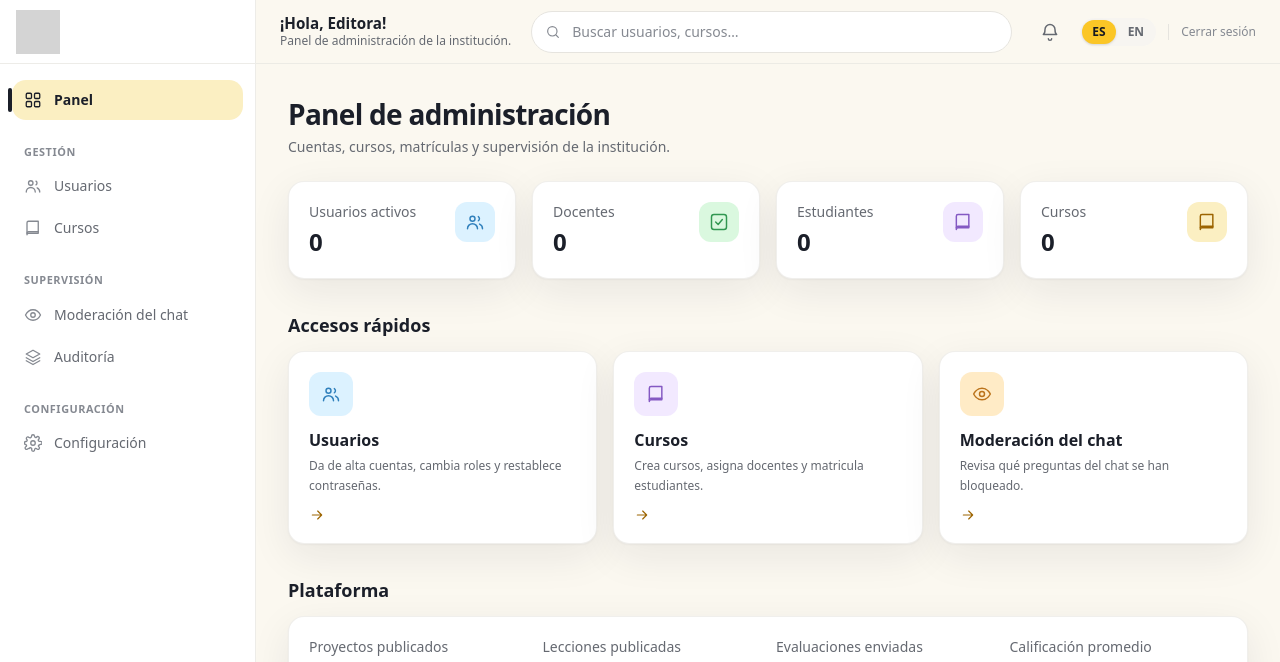
Scenario: Panel de administración › navega a Moderación del chat
Click the link "Moderación del chat": (106, 314) [24,305,188,324]
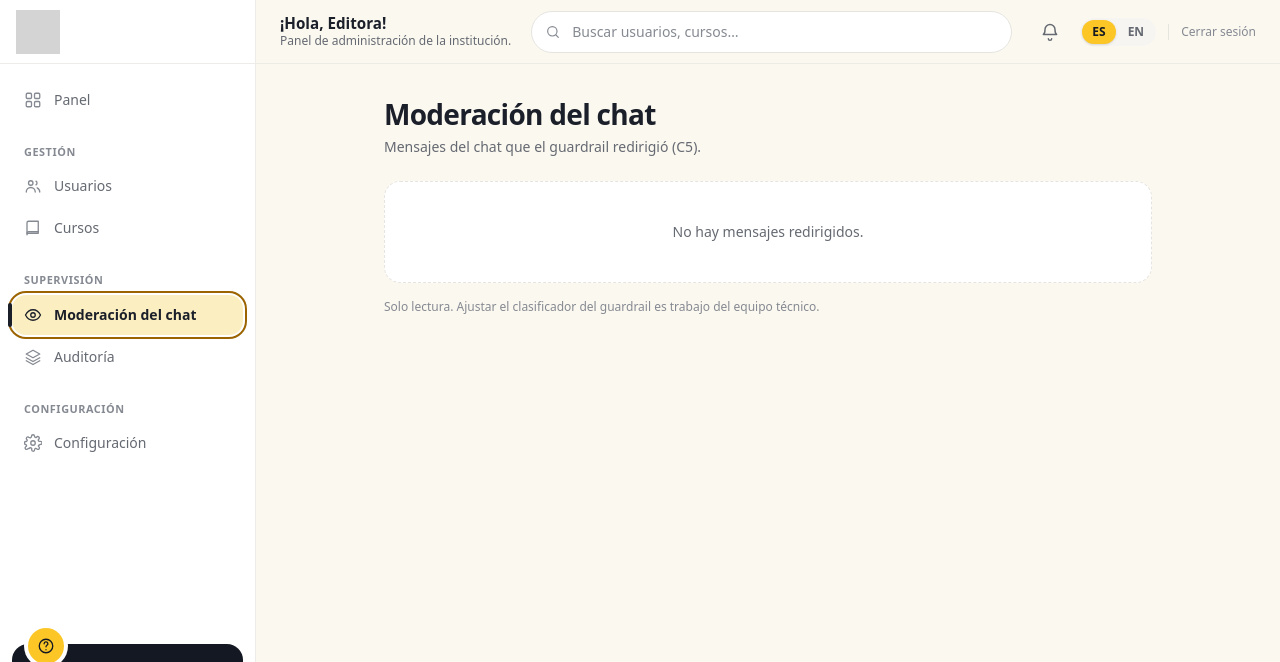
expect the text "No hay mensajes redirigidos." is shown: met, box [384,181,1152,283]
